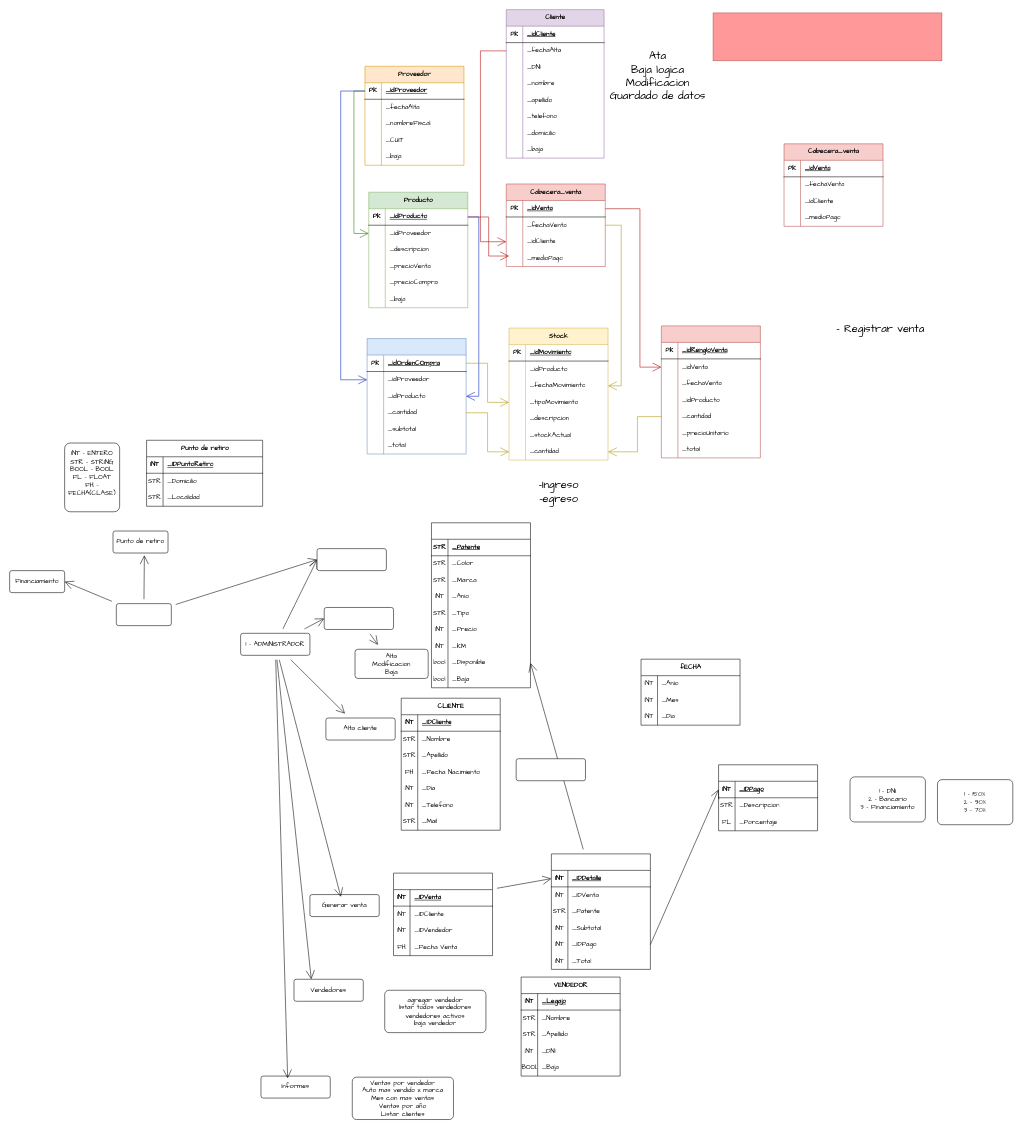
This 1022x1129 diagram has some shape labels left out. Each missing label, with the box of its shape:
2 - CLIENTE: (116, 603, 171, 626)
AMB Autos: (324, 607, 394, 629)
AUTO: (431, 522, 530, 688)
Autos en ventas (Listar los autos disponibles): (317, 548, 386, 571)
CABECERA FACTURA: (393, 873, 493, 956)
cuando genero venta cambia estado: (516, 758, 585, 781)
DETALLE FACTURA: (551, 853, 650, 969)
Forma de pago: (718, 764, 818, 831)
Orden de compra: (367, 338, 466, 454)
Renglones_venta: (661, 325, 760, 458)
Todas las fechas las manejamos con dia/mes/año: (713, 12, 942, 61)
